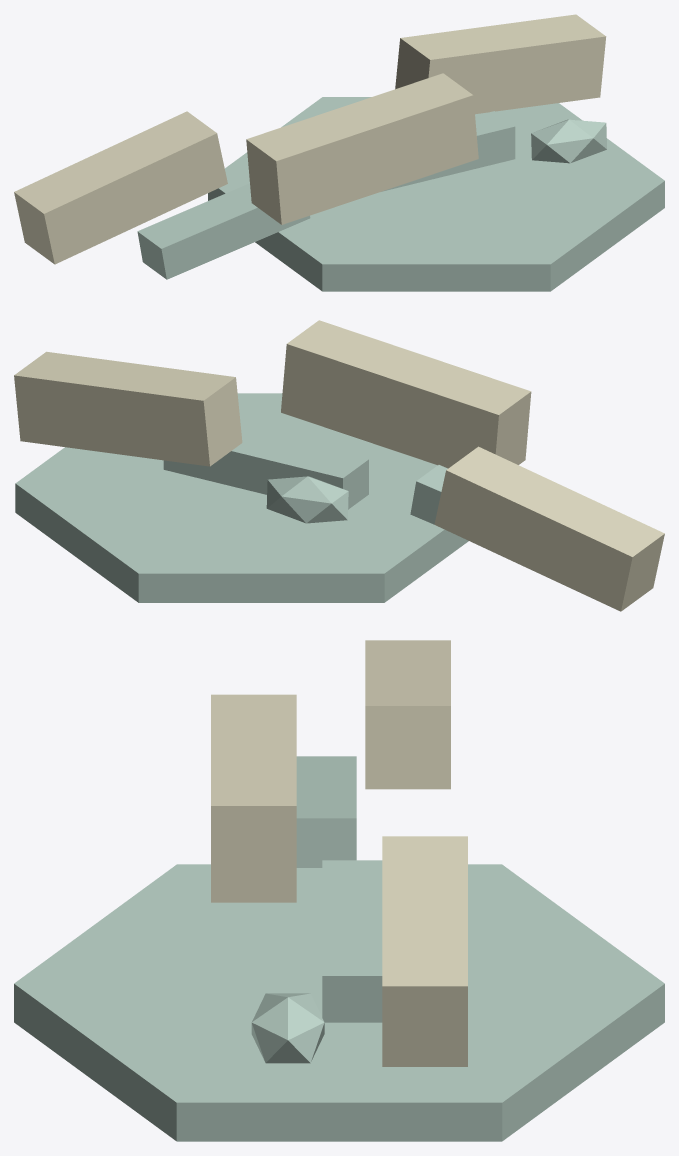
File: COASTAL_WATER_EDGE_001_LOD_GAMEPLAY.glb
3 renders of one model, top to bottom at view 1: azimuth 30°, elevation 25°; view 2: azimuth 150°, elevation 25°; view 3: azimuth 270°, elevation 25°, orthographic. The views are drawn at different scales.
Parts seen in each view (by area): view 1: COASTAL_WATER_EDGE_001_LOD_GAMEPLAY_GROUND_SOCKET, COASTAL_WATER_EDGE_001_LOD_GAMEPLAY_BANK_002, COASTAL_WATER_EDGE_001_LOD_GAMEPLAY_BANK_001, COASTAL_WATER_EDGE_001_LOD_GAMEPLAY_BANK_003, COASTAL_WATER_EDGE_001_LOD_GAMEPLAY_WET_001, COASTAL_WATER_EDGE_001_LOD_GAMEPLAY_PEBBLE_002, COASTAL_WATER_EDGE_001_LOD_GAMEPLAY_WET_002; view 2: COASTAL_WATER_EDGE_001_LOD_GAMEPLAY_GROUND_SOCKET, COASTAL_WATER_EDGE_001_LOD_GAMEPLAY_BANK_002, COASTAL_WATER_EDGE_001_LOD_GAMEPLAY_BANK_003, COASTAL_WATER_EDGE_001_LOD_GAMEPLAY_BANK_001, COASTAL_WATER_EDGE_001_LOD_GAMEPLAY_WET_002, COASTAL_WATER_EDGE_001_LOD_GAMEPLAY_PEBBLE_001, COASTAL_WATER_EDGE_001_LOD_GAMEPLAY_WET_001; view 3: COASTAL_WATER_EDGE_001_LOD_GAMEPLAY_GROUND_SOCKET, COASTAL_WATER_EDGE_001_LOD_GAMEPLAY_BANK_003, COASTAL_WATER_EDGE_001_LOD_GAMEPLAY_BANK_002, COASTAL_WATER_EDGE_001_LOD_GAMEPLAY_BANK_001, COASTAL_WATER_EDGE_001_LOD_GAMEPLAY_WET_002, COASTAL_WATER_EDGE_001_LOD_GAMEPLAY_WET_001, COASTAL_WATER_EDGE_001_LOD_GAMEPLAY_PEBBLE_002.
Part boxes in pixels (x1=…): COASTAL_WATER_EDGE_001_LOD_GAMEPLAY_GROUND_SOCKET: x1=208, y1=97, x2=664, y2=291; COASTAL_WATER_EDGE_001_LOD_GAMEPLAY_BANK_002: x1=246, y1=73, x2=478, y2=224; COASTAL_WATER_EDGE_001_LOD_GAMEPLAY_BANK_001: x1=14, y1=111, x2=227, y2=264; COASTAL_WATER_EDGE_001_LOD_GAMEPLAY_BANK_003: x1=395, y1=14, x2=606, y2=114; COASTAL_WATER_EDGE_001_LOD_GAMEPLAY_WET_001: x1=137, y1=183, x2=310, y2=279; COASTAL_WATER_EDGE_001_LOD_GAMEPLAY_PEBBLE_002: x1=531, y1=119, x2=606, y2=163; COASTAL_WATER_EDGE_001_LOD_GAMEPLAY_WET_002: x1=381, y1=111, x2=515, y2=191; COASTAL_WATER_EDGE_001_LOD_GAMEPLAY_GROUND_SOCKET: x1=15, y1=393, x2=468, y2=602; COASTAL_WATER_EDGE_001_LOD_GAMEPLAY_BANK_002: x1=281, y1=320, x2=531, y2=468; COASTAL_WATER_EDGE_001_LOD_GAMEPLAY_BANK_003: x1=14, y1=351, x2=242, y2=466; COASTAL_WATER_EDGE_001_LOD_GAMEPLAY_BANK_001: x1=434, y1=446, x2=664, y2=611; COASTAL_WATER_EDGE_001_LOD_GAMEPLAY_WET_002: x1=163, y1=428, x2=368, y2=509; COASTAL_WATER_EDGE_001_LOD_GAMEPLAY_PEBBLE_001: x1=266, y1=476, x2=348, y2=523; COASTAL_WATER_EDGE_001_LOD_GAMEPLAY_WET_001: x1=410, y1=465, x2=447, y2=524; COASTAL_WATER_EDGE_001_LOD_GAMEPLAY_GROUND_SOCKET: x1=14, y1=864, x2=664, y2=1141; COASTAL_WATER_EDGE_001_LOD_GAMEPLAY_BANK_003: x1=382, y1=836, x2=467, y2=1066; COASTAL_WATER_EDGE_001_LOD_GAMEPLAY_BANK_002: x1=211, y1=694, x2=296, y2=902; COASTAL_WATER_EDGE_001_LOD_GAMEPLAY_BANK_001: x1=365, y1=640, x2=450, y2=789; COASTAL_WATER_EDGE_001_LOD_GAMEPLAY_WET_002: x1=322, y1=860, x2=382, y2=1022; COASTAL_WATER_EDGE_001_LOD_GAMEPLAY_WET_001: x1=296, y1=756, x2=356, y2=867; COASTAL_WATER_EDGE_001_LOD_GAMEPLAY_PEBBLE_002: x1=251, y1=993, x2=324, y2=1063.
Bounding box in the file's own units: 1.09 × 0.2763 × 0.76.
